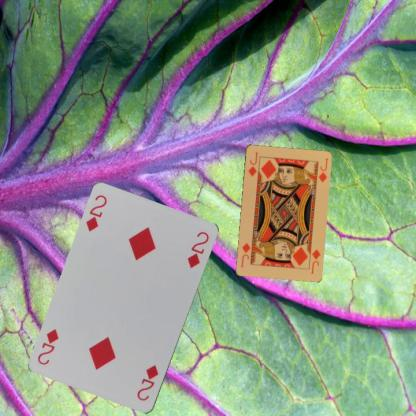2d: (134, 362, 160, 403), (83, 192, 109, 233)
Jd: (245, 149, 259, 177), (309, 246, 321, 275)
